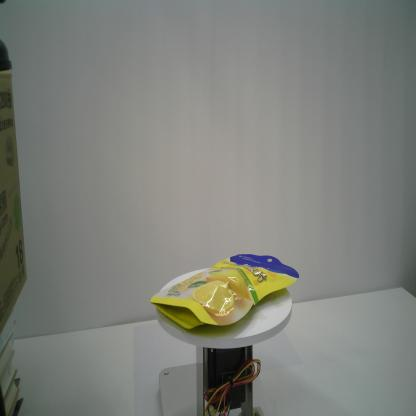Dried Fruit: (148, 248, 298, 332)
